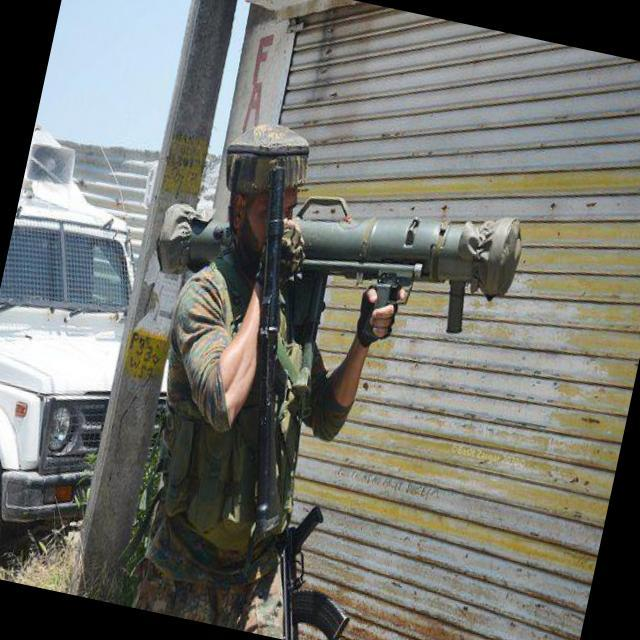rocket: (148, 146, 528, 347)
